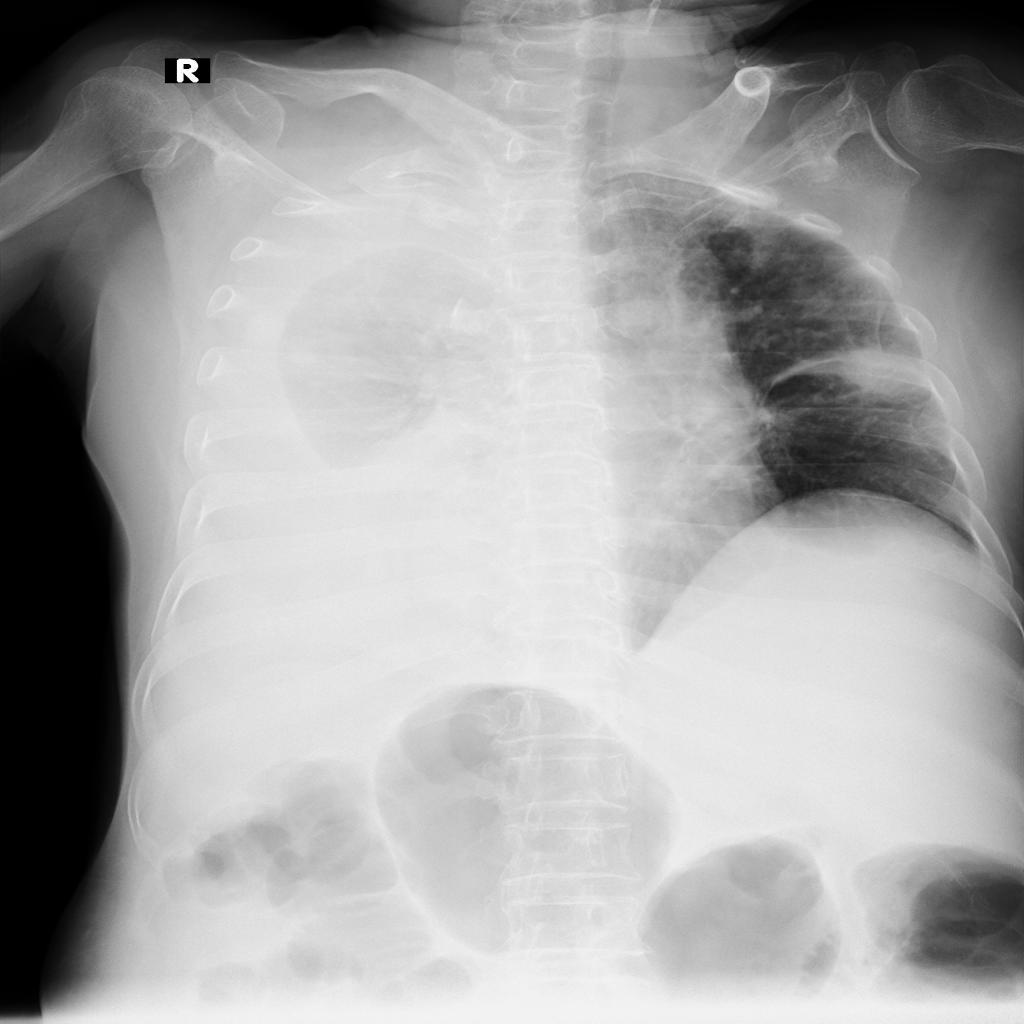Nodule: (827, 341, 939, 397)
